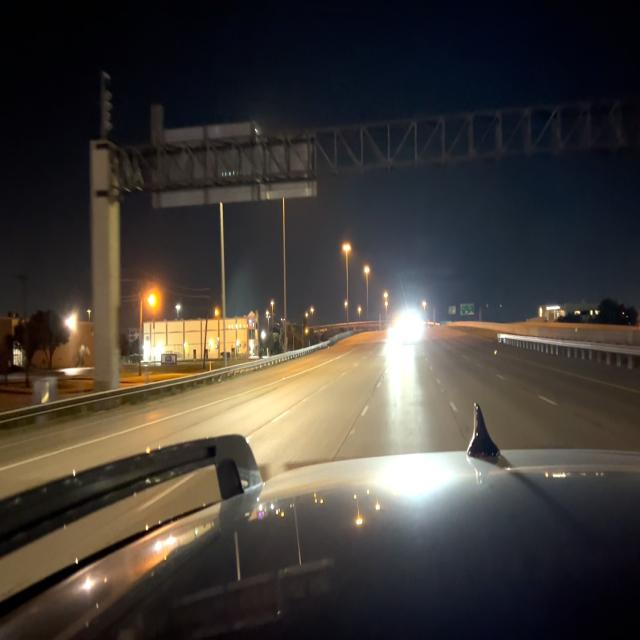back-of-sign: (152, 129, 319, 201)
